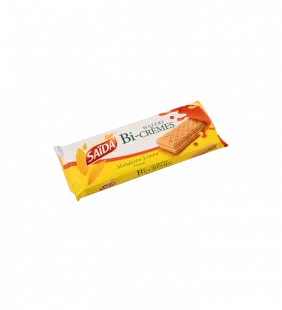SAIDA: (43, 91, 237, 213)
